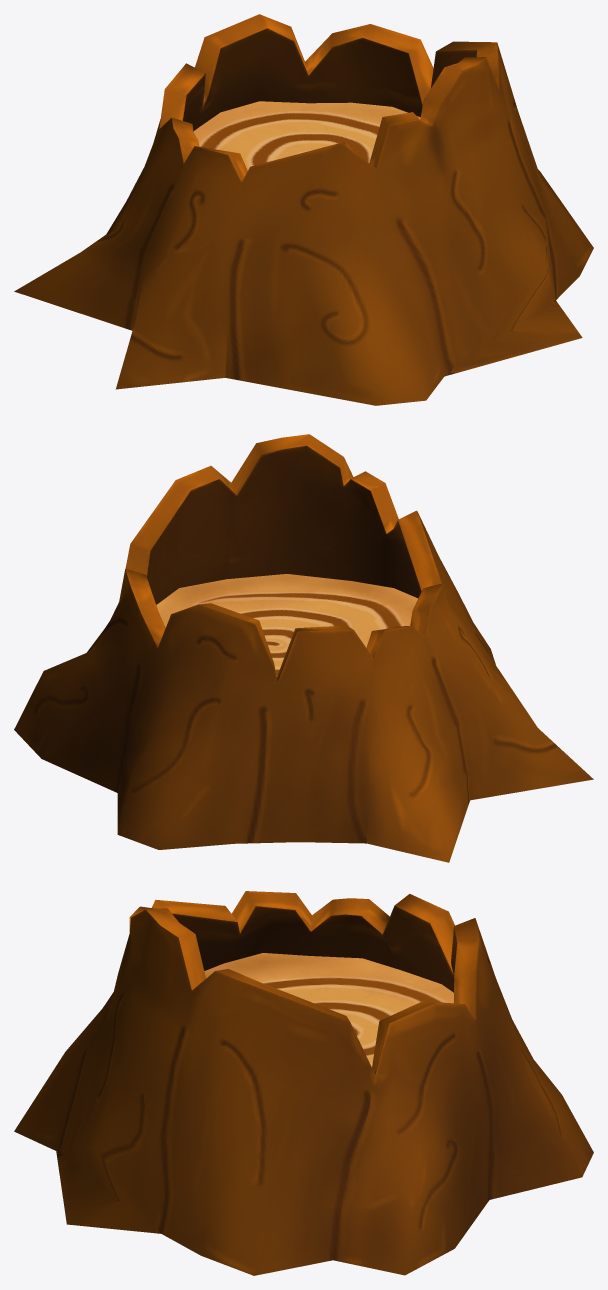
File: Stump_2.fbx
3 renders of one model, top to bottom at view 1: azimuth 30°, elevation 25°; view 2: azimuth 150°, elevation 25°; view 3: azimuth 270°, elevation 25°, orthographic. The views are drawn at different scales.
Visible parts, largest first — view 1: Stump_2; view 2: Stump_2; view 3: Stump_2.
Part boxes in pixels (left/top/right/bottom): Stump_2: left=14, top=14, right=593, bottom=405; Stump_2: left=14, top=434, right=593, bottom=862; Stump_2: left=14, top=891, right=593, bottom=1275.
Bounding box in the file's own units: 2.45 × 1.21 × 2.33.
